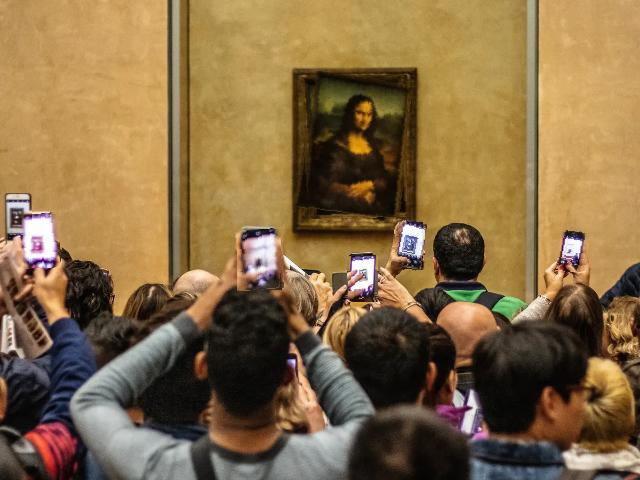art: (299, 75, 407, 219)
phone: (237, 229, 283, 291), (22, 214, 62, 268), (393, 220, 425, 270), (348, 256, 378, 302), (558, 231, 588, 273), (2, 194, 32, 236)
